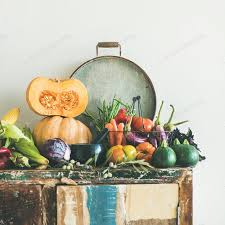Tomato: (135, 114, 152, 129)
